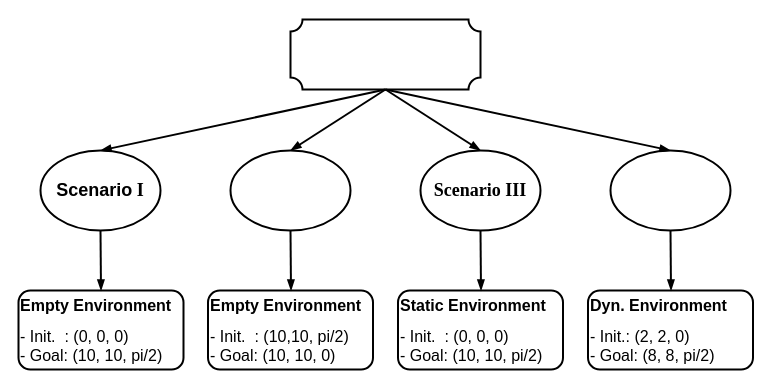
Image size: 771x388. Some labels were removed from this diagram. Each missing label, with the box of its shape:
Experiments: (289, 18, 481, 90)
Scenario II: (229, 149, 351, 231)
Scenario IV: (609, 149, 731, 231)
